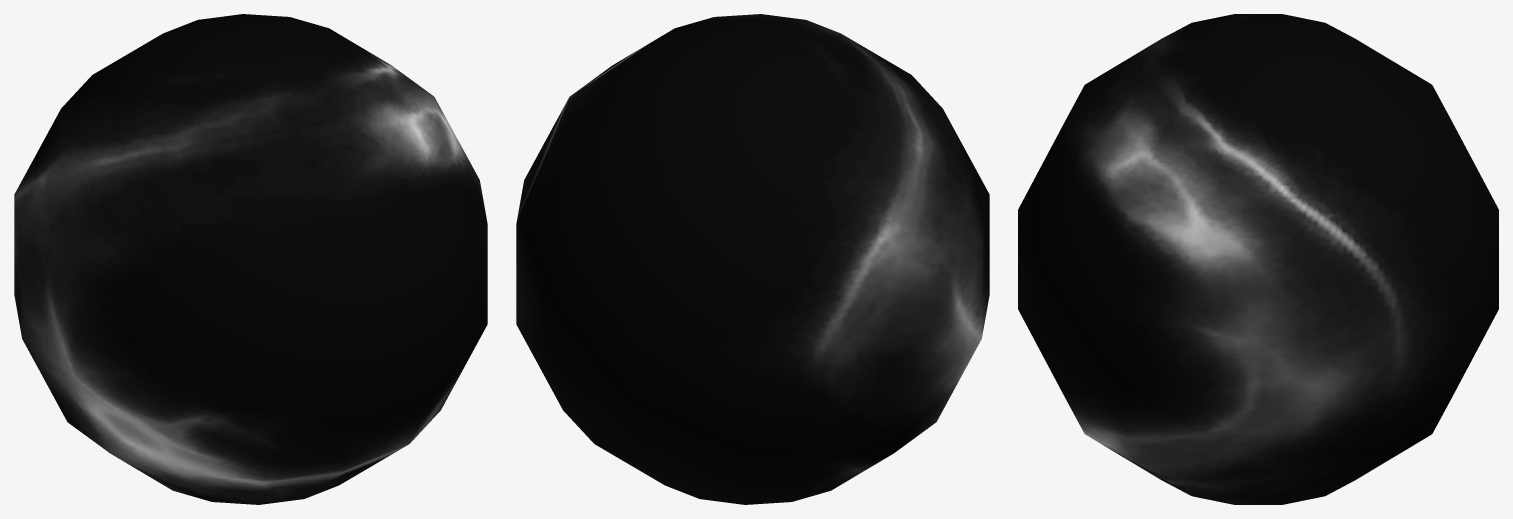
File: 0435_shuiqiu.glb
The picture shows the model from 3 angles, left to right: view 1: azimuth 30°, elevation 25°; view 2: azimuth 150°, elevation 25°; view 3: azimuth 270°, elevation 25°; orthographic projection.
Bounding box in the file's own units: 2.09 × 2.2 × 2.14.
Materials: 1 (1 with a texture image).
